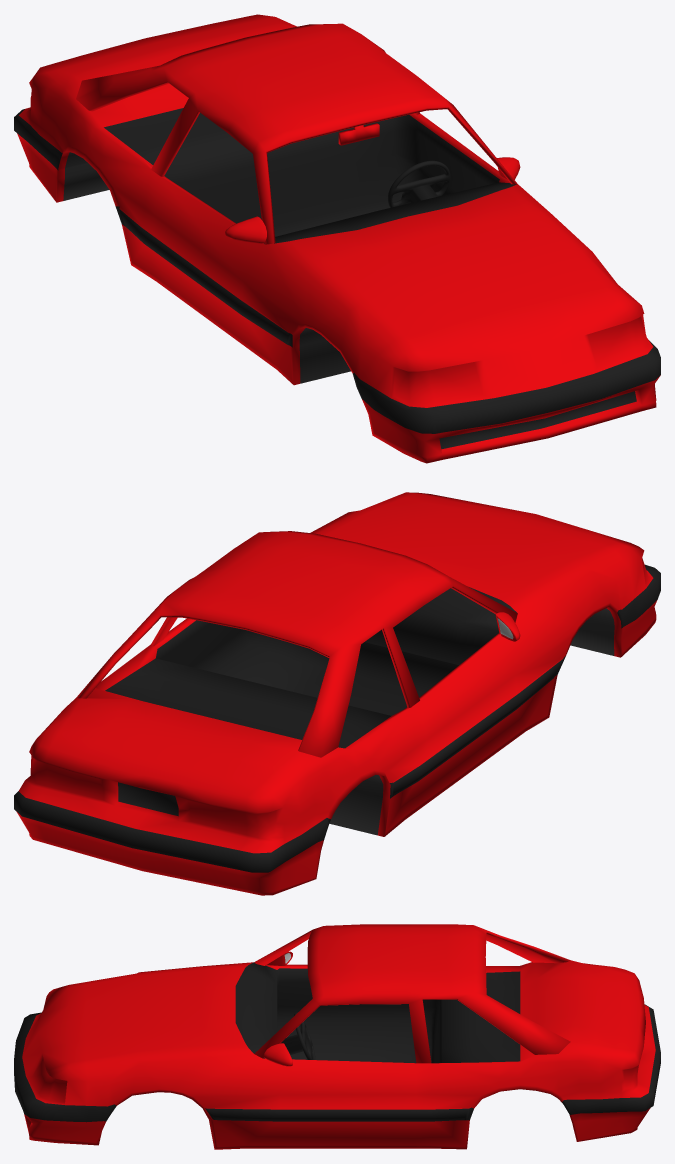
Rendered from CarRWD.fbx.
The picture shows the model from 3 angles, top to bottom: view 1: azimuth 30°, elevation 25°; view 2: azimuth 150°, elevation 25°; view 3: azimuth 270°, elevation 25°; orthographic projection. The views are drawn at different scales.
Visible parts, largest first — view 1: body, roof, mirrors, steering; view 2: body, roof; view 3: body, roof, steering, mirrors.
Part boxes in pixels (box(x1,y1,x2,y2)): body: box(14, 14, 660, 463); roof: box(76, 23, 517, 244); mirrors: box(224, 123, 520, 243); steering: box(388, 160, 450, 207); body: box(14, 492, 660, 895); roof: box(76, 531, 517, 757); body: box(14, 960, 660, 1149); roof: box(254, 924, 570, 1063); steering: box(280, 1012, 315, 1059); mirrors: box(264, 951, 292, 1066).
Size of what is drawn, in the model's own units: 184 by 117 by 456.
